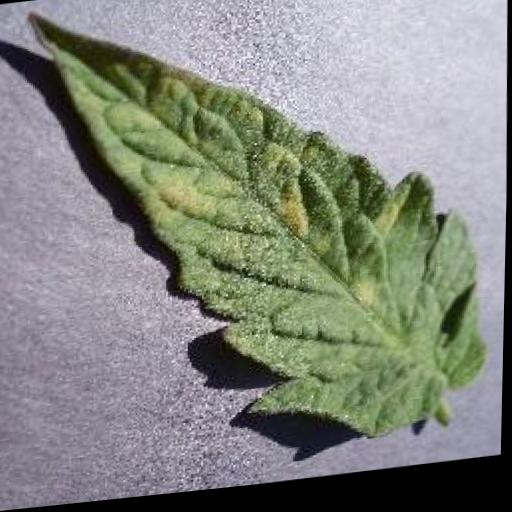Leaf Mold: (17, 0, 493, 482)
